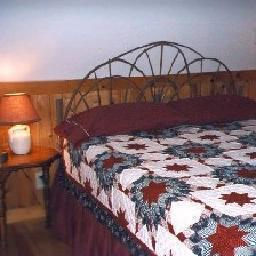Cama: (71, 115, 253, 253)
